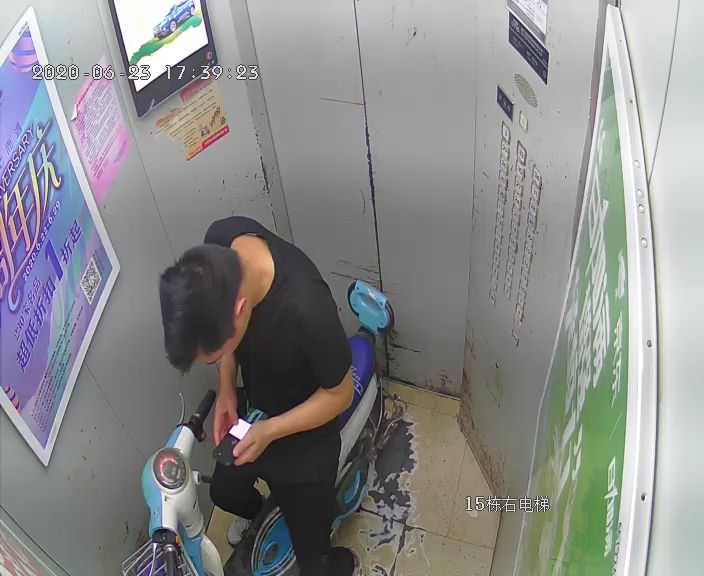Electric-bicycle: (131, 272, 394, 570)
